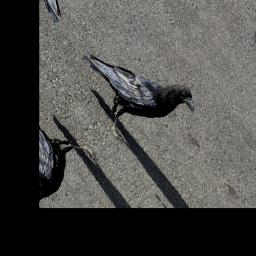Crow: (63, 17, 204, 157)
